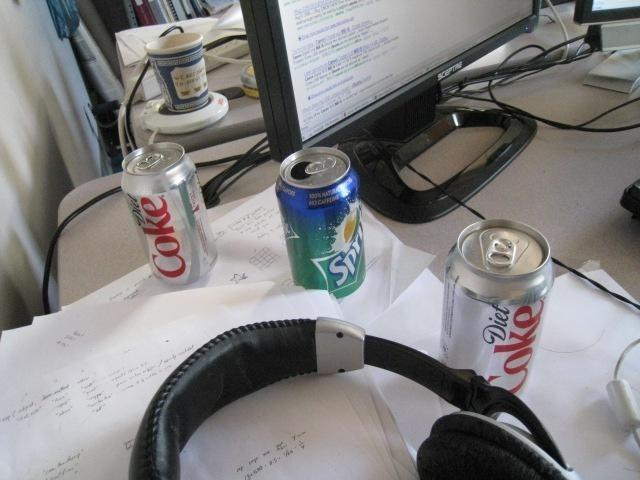cup-handle: (144, 30, 211, 112)
tin can: (440, 219, 557, 396), (118, 140, 218, 286), (275, 147, 369, 297)
